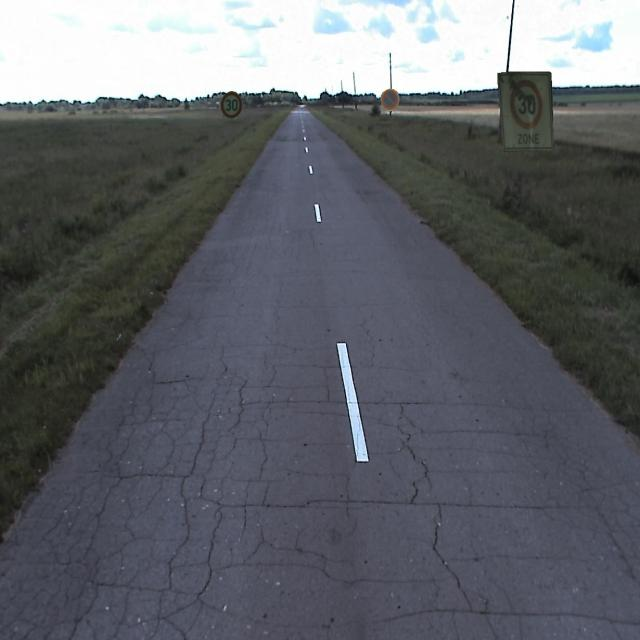road: (0, 107, 639, 639)
